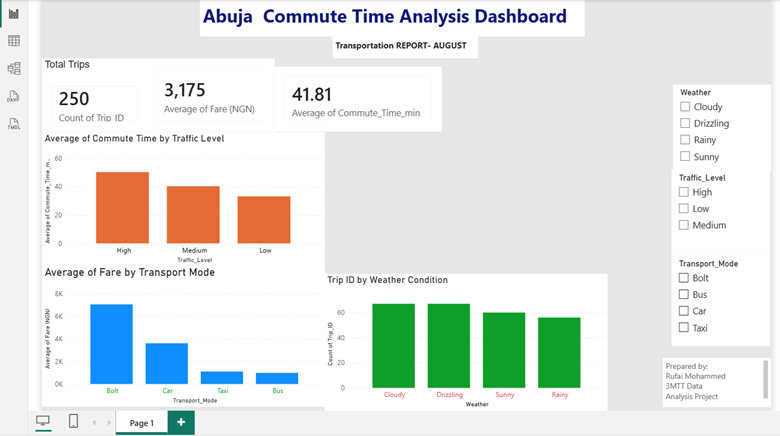

Layout of this report page (visuals, bound fields, positions):
{"tool":"powerbi","page":{"name":"Page 1","canvas":[1280,720],"ordinal":0},"visuals":[{"type":"clusteredColumnChart","title":"Average of Fare by Transport Mode","fields":{"Category":["Sheet.Transport_Mode"],"Y":["Avg(Sheet.Fare_NGN)"]},"box":[0,466.2,497.1,247.3],"z":0},{"type":"cardVisual","fields":{"Data":["Avg(Sheet.Commute_Time_min)"]},"box":[408.8,117.5,292.5,113.8],"z":1000},{"type":"cardVisual","fields":{"Data":["Avg(Sheet.Fare_NGN)"]},"box":[185,102.5,223.8,128.8],"z":2000},{"type":"clusteredColumnChart","title":"Average of Commute Time by Traffic Level","fields":{"Category":["Sheet.Traffic_Level"],"Y":["Avg(Sheet.Commute_Time_min)"]},"box":[0,231.2,496.5,234.8],"z":3000},{"type":"clusteredColumnChart","title":"Trip ID by Weather Condition","fields":{"Category":["Sheet.Weather"],"Y":["CountNonNull(Sheet.Trip_ID)"]},"box":[496.2,480,496.5,239.7],"z":4000},{"type":"slicer","fields":{"Values":["Sheet.Transport_Mode"]},"box":[1104.5,448.3,172.5,158],"z":5000},{"type":"textbox","box":[510,63.8,255,38.8],"z":6000},{"type":"textbox","box":[277.5,0,675,63.8],"z":7000},{"type":"cardVisual","title":"Total Trips","fields":{"Data":["CountNonNull(Sheet.Trip_ID)"]},"box":[0,102.5,185,128.8],"z":8000},{"type":"slicer","fields":{"Values":["Sheet.Traffic_Level"]},"box":[1104.5,298.3,172.5,150],"z":8001},{"type":"slicer","fields":{"Values":["Sheet.Weather"]},"box":[1107.5,148.8,172.5,150],"z":8002},{"type":"textbox","box":[1090,627.5,190,86.2],"z":8003}]}

Visuals, with their boxes on the page's 1280x720 design canvas (x1, y1, x2, y2). These are canvas units, not pixel positions in the 780x436 screenshot, which may show the page scaled, cropped or inside an application window:
"Average of Fare by Transport Mode" clusteredColumnChart: locate(0, 466, 497, 714)
cardVisual - Avg(Sheet.Commute_Time_min): locate(409, 118, 701, 231)
cardVisual - Avg(Sheet.Fare_NGN): locate(185, 102, 409, 231)
"Average of Commute Time by Traffic Level" clusteredColumnChart: locate(0, 231, 496, 466)
"Trip ID by Weather Condition" clusteredColumnChart: locate(496, 480, 993, 720)
slicer - Sheet.Transport_Mode: locate(1104, 448, 1277, 606)
textbox: locate(510, 64, 765, 103)
textbox: locate(278, 0, 952, 64)
"Total Trips" cardVisual: locate(0, 102, 185, 231)
slicer - Sheet.Traffic_Level: locate(1104, 298, 1277, 448)
slicer - Sheet.Weather: locate(1108, 149, 1280, 299)
textbox: locate(1090, 628, 1280, 714)
